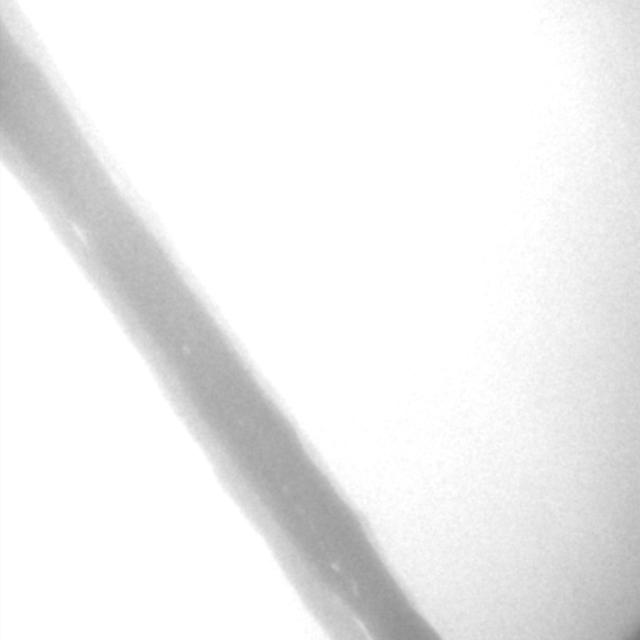air hole: (180, 343, 191, 355), (331, 565, 340, 573)
